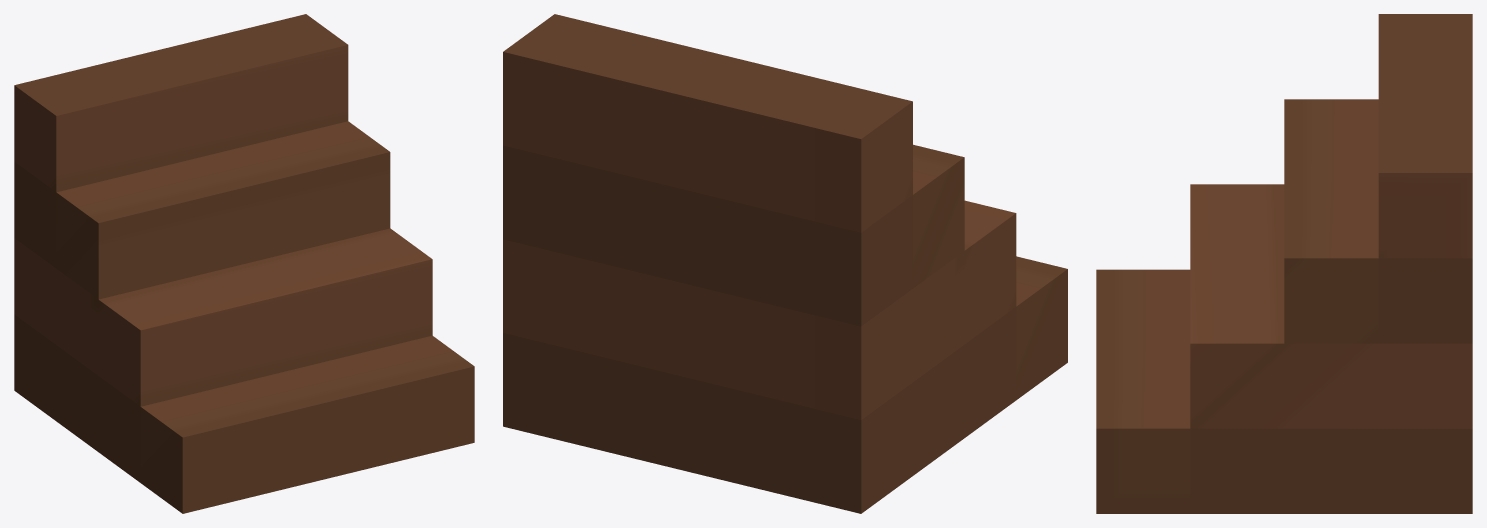
File: Stair.fbx
3 renders of one model, left to right at view 1: azimuth 30°, elevation 25°; view 2: azimuth 150°, elevation 25°; view 3: azimuth 270°, elevation 25°, orthographic. The views are drawn at different scales.
Parts seen in each view (by area): view 1: pCube1; view 2: pCube1; view 3: pCube1.
Boxes of the visible parts, <box> form: pCube1: <box>14,14,474,513</box>; pCube1: <box>503,14,1067,513</box>; pCube1: <box>1096,14,1472,513</box>.
Size of the model in its own units: 1 by 1 by 1.
